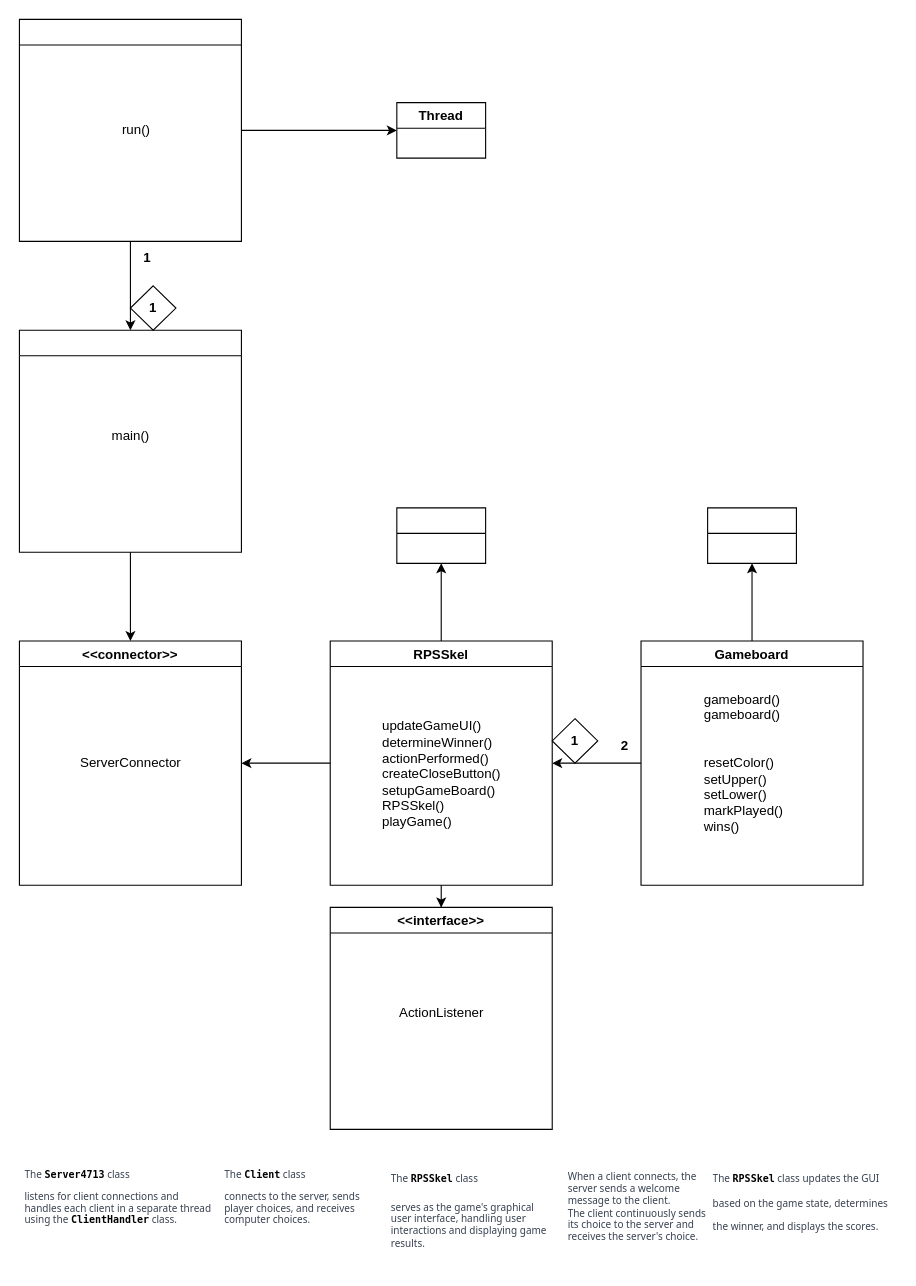
The diagram is 916 pixels wide and 1286 high, and some of its shapes have lost their labels. The shapes that lost their labels are listed below. From the top down, each one's box as (x1, y1, x2, y2) in pixels, then its label:
(18, 18, 241, 241): ClientHandler
(18, 329, 241, 552): Server4713
(396, 507, 486, 563): JFrame
(707, 507, 796, 563): JPanel
